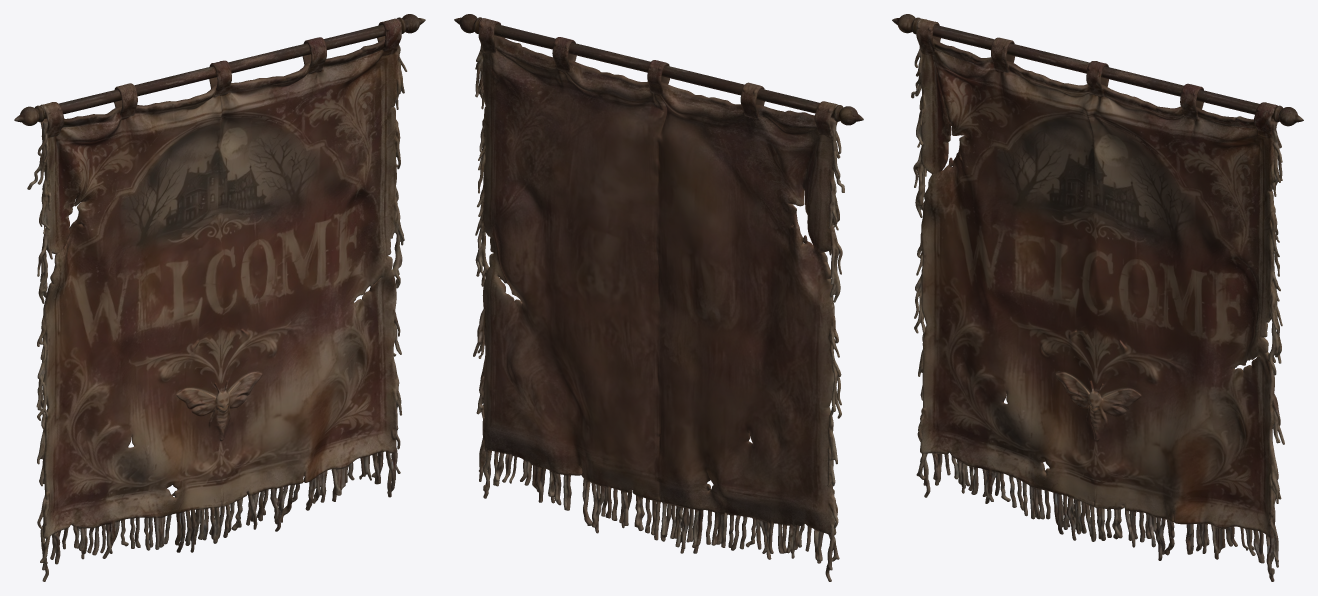
The model's file is WelcomeTapestry.glb.
3 views of the same model, side by side, from view 1: azimuth 30°, elevation 25°; view 2: azimuth 150°, elevation 25°; view 3: azimuth 330°, elevation 25° (orthographic).
Parts seen in each view (by area): view 1: tripo_node_b5d00252-fe5e-4d44-9701-8a1e8536036e; view 2: tripo_node_b5d00252-fe5e-4d44-9701-8a1e8536036e; view 3: tripo_node_b5d00252-fe5e-4d44-9701-8a1e8536036e.
Part boxes in pixels (x1=…): tripo_node_b5d00252-fe5e-4d44-9701-8a1e8536036e: x1=14, y1=14, x2=425, y2=581; tripo_node_b5d00252-fe5e-4d44-9701-8a1e8536036e: x1=454, y1=14, x2=863, y2=581; tripo_node_b5d00252-fe5e-4d44-9701-8a1e8536036e: x1=892, y1=14, x2=1303, y2=581.
Bounding box in the file's own units: 0.8842 × 1 × 0.0458.
1 material, 1 textured.
